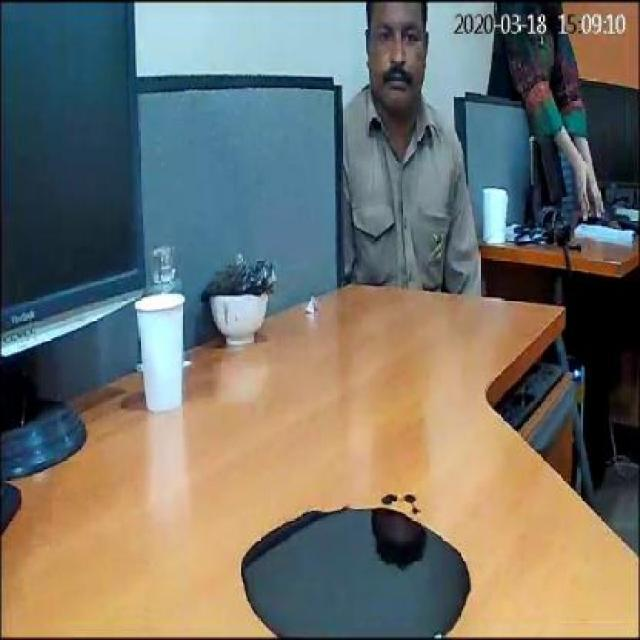spill: (240, 506, 474, 640)
